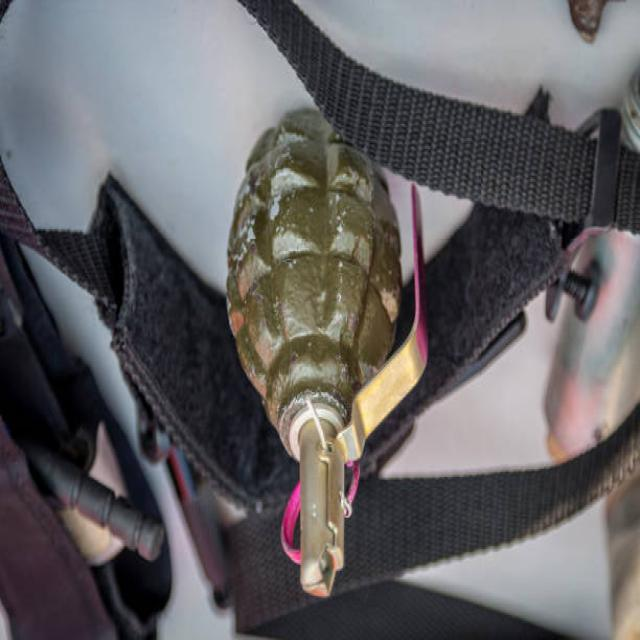grenade: (219, 105, 443, 610)
